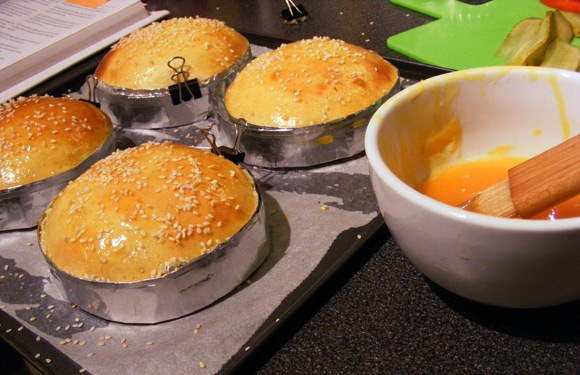hamburger_buns: (59, 145, 235, 299), (237, 39, 362, 121)
